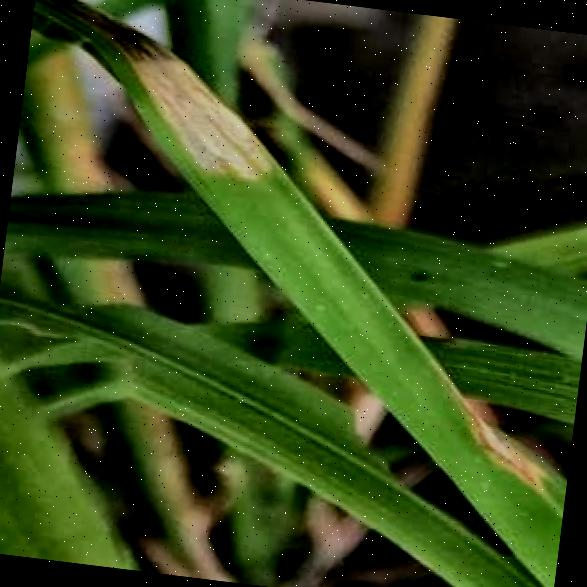Leaf_smut: (419, 362, 576, 494)
